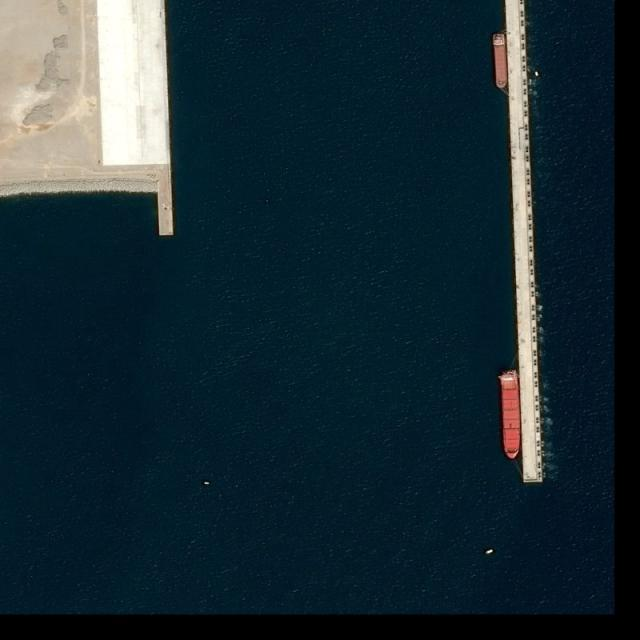ship: (498, 369, 522, 461), (492, 33, 510, 90), (486, 548, 495, 556), (534, 70, 540, 78), (203, 482, 210, 486)
